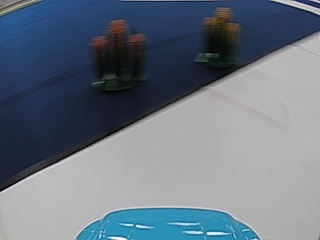corn: (89, 15, 147, 93), (198, 3, 242, 69)
